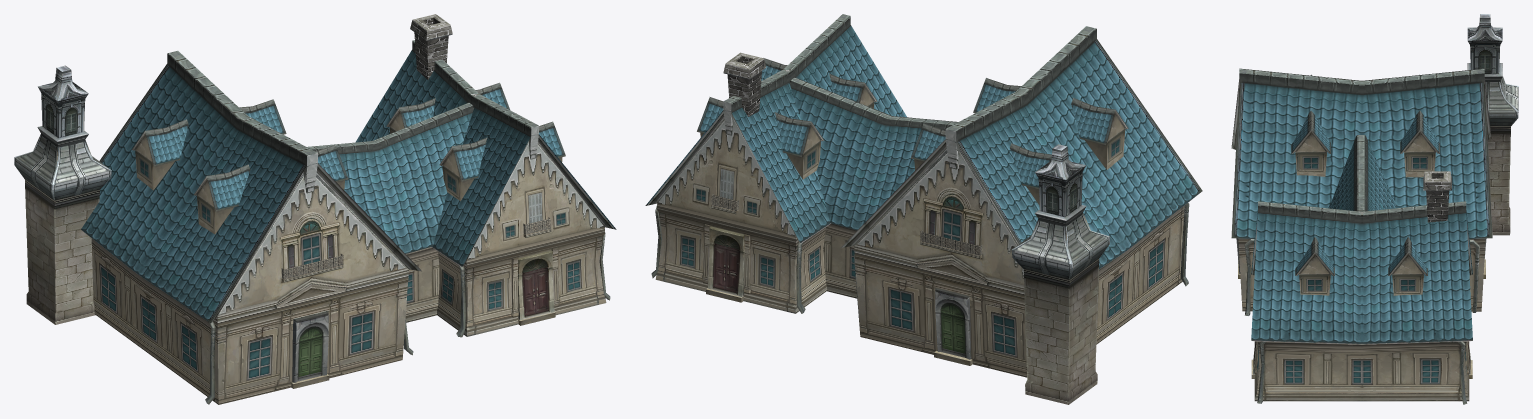
File: DN_mcHouse01.FBX
3 renders of one model, left to right at view 1: azimuth 30°, elevation 25°; view 2: azimuth 150°, elevation 25°; view 3: azimuth 270°, elevation 25°, orthographic. The views are drawn at different scales.
Parts seen in each view (by area): view 1: DN_mcHouse01; view 2: DN_mcHouse01; view 3: DN_mcHouse01.
Boxes of the visible parts, box(x1,y1,x2,y2) form: DN_mcHouse01: box(14, 14, 616, 404); DN_mcHouse01: box(645, 14, 1202, 404); DN_mcHouse01: box(1231, 14, 1518, 404).
Size of the model in its own units: 1979 by 1009 by 1245.
